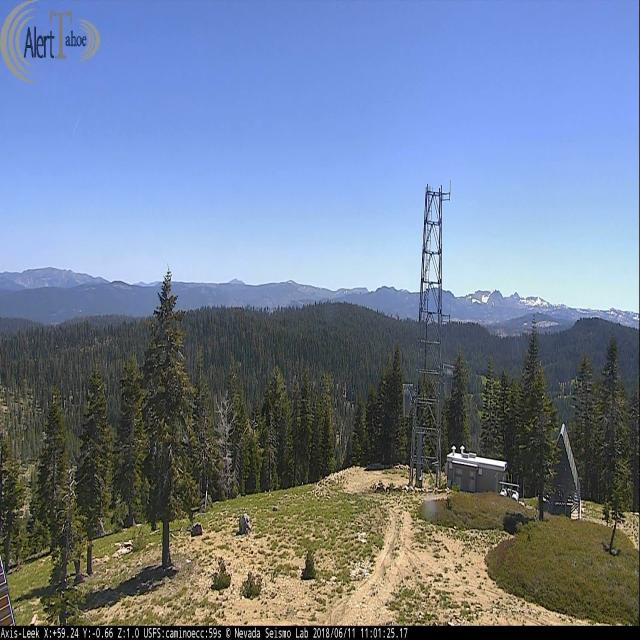smoke: (200, 286, 205, 294)
